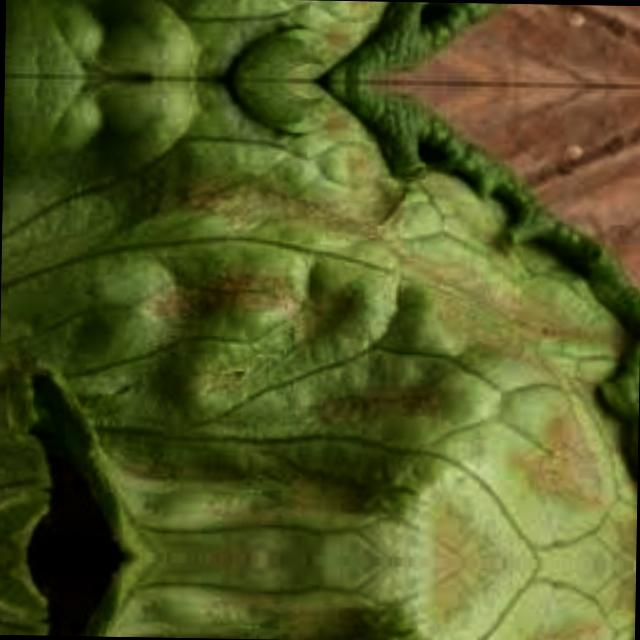Downy_mildew: (77, 78, 610, 530), (84, 0, 611, 82), (74, 588, 601, 640)
